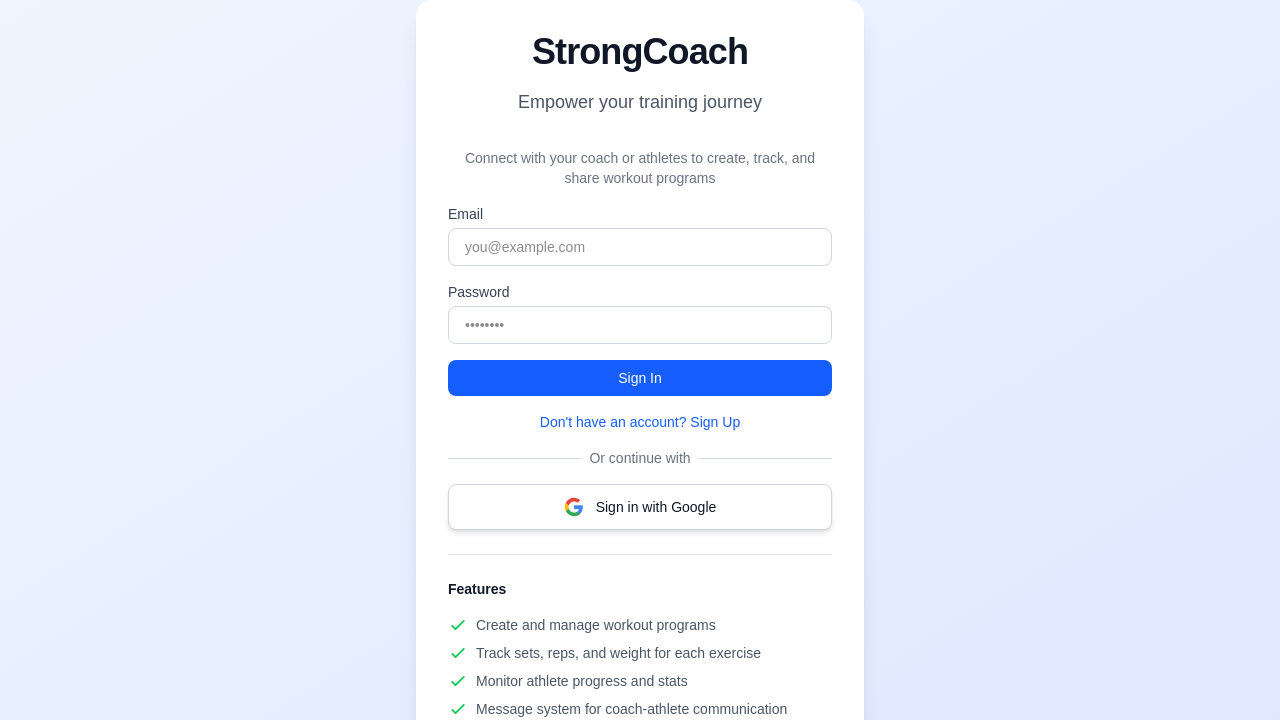
Authentication Flow › Email/Password Authentication - UI Tests › should have all required form fields in sign-up mode
Step 1. Click the button "Don't have an account? Sign Up" → (640, 422), box [448,412,832,432]
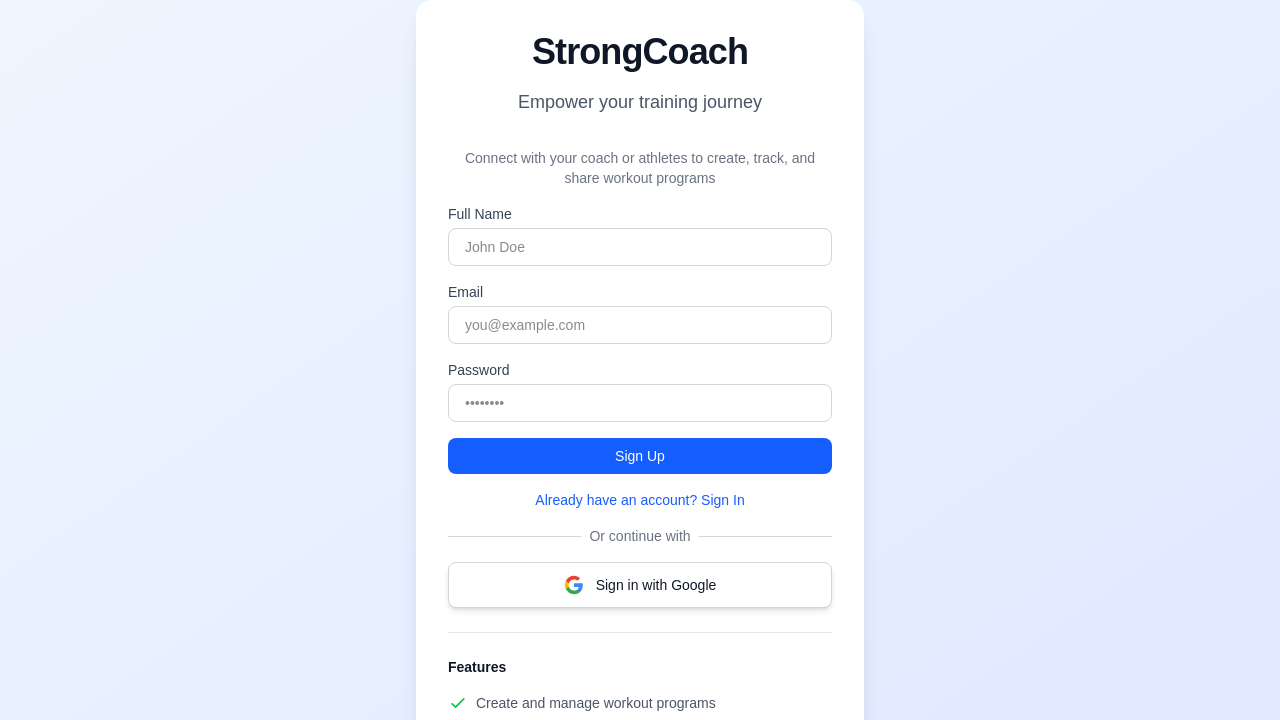
Expected: the field with id "email" is shown, [448,306,832,344]
Expected: the field with id "fullName" is shown, [448,228,832,266]
